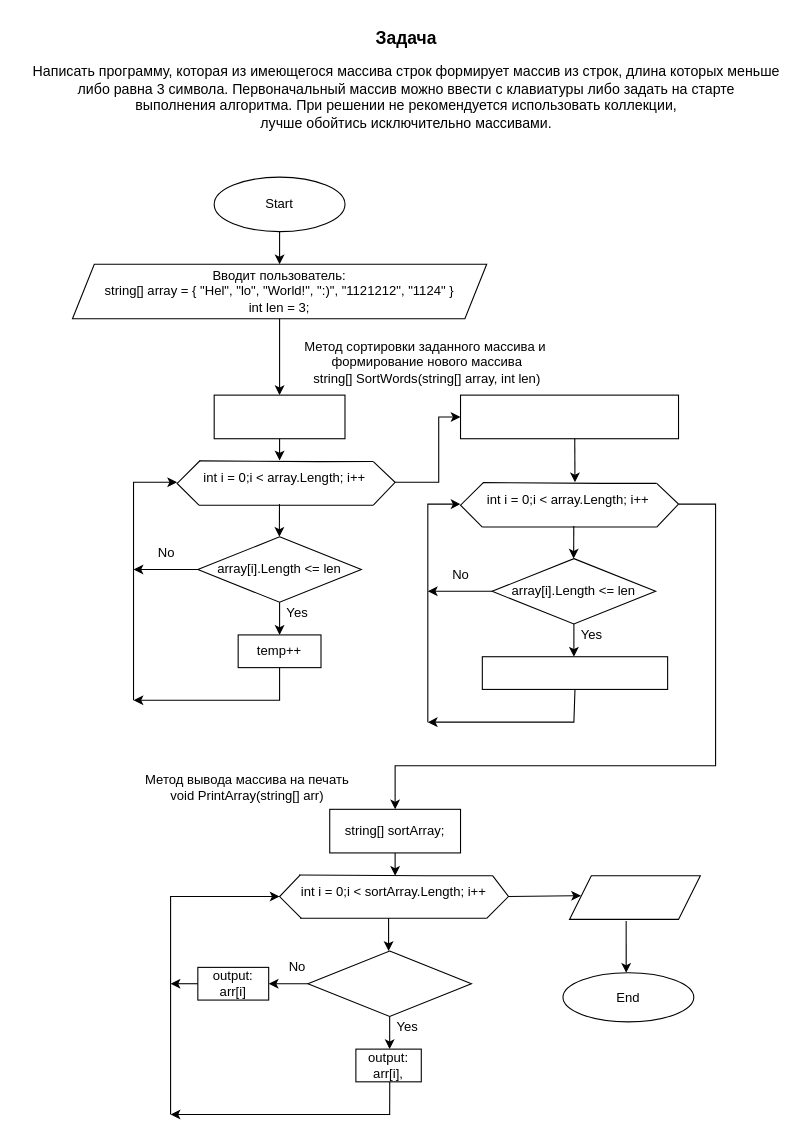
Some shapes in this 811 by 1142 pixel diagram are drawn without their labels. The centre of each missing label's shape, as x and y in pixels:
"i+1 != arr.Length" belongs at (x=389, y=983).
"output: sortArray" belongs at (x=634, y=897).
"sortArray[temp++] = array[i]" belongs at (x=574, y=672).
"string[] sortArray = new string[temp]; int temp = 0;" belongs at (x=569, y=416).
"string[] sortArray; int temp = 0;" belongs at (x=279, y=416).
